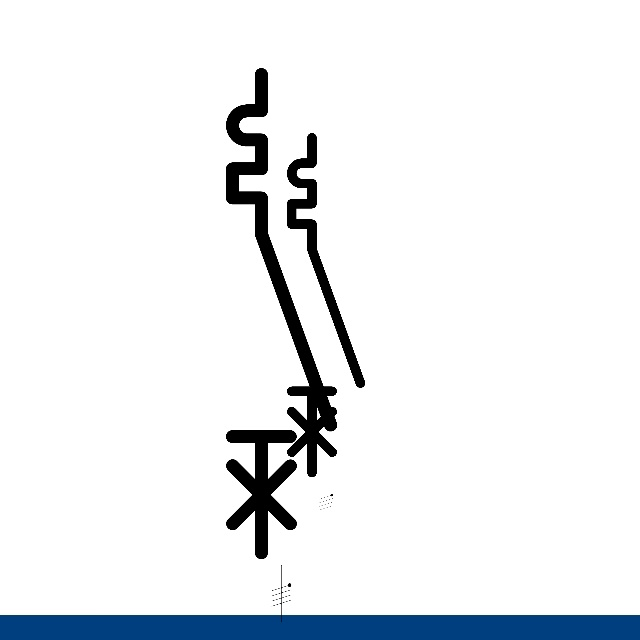interruptor_termomagnetico: (220, 62, 343, 565), (283, 129, 369, 481)
